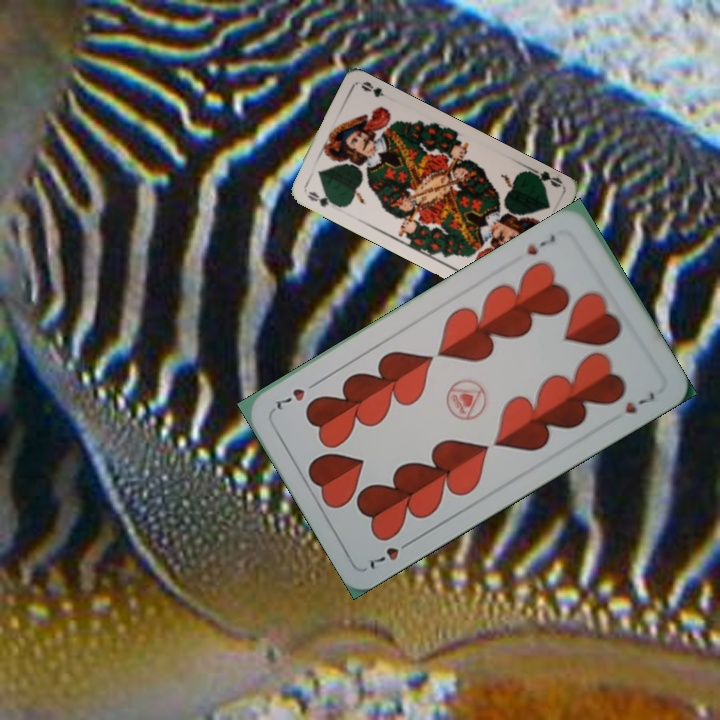GO: (524, 164, 565, 190), (303, 187, 341, 210)
H7: (365, 535, 417, 572), (522, 230, 559, 258)
